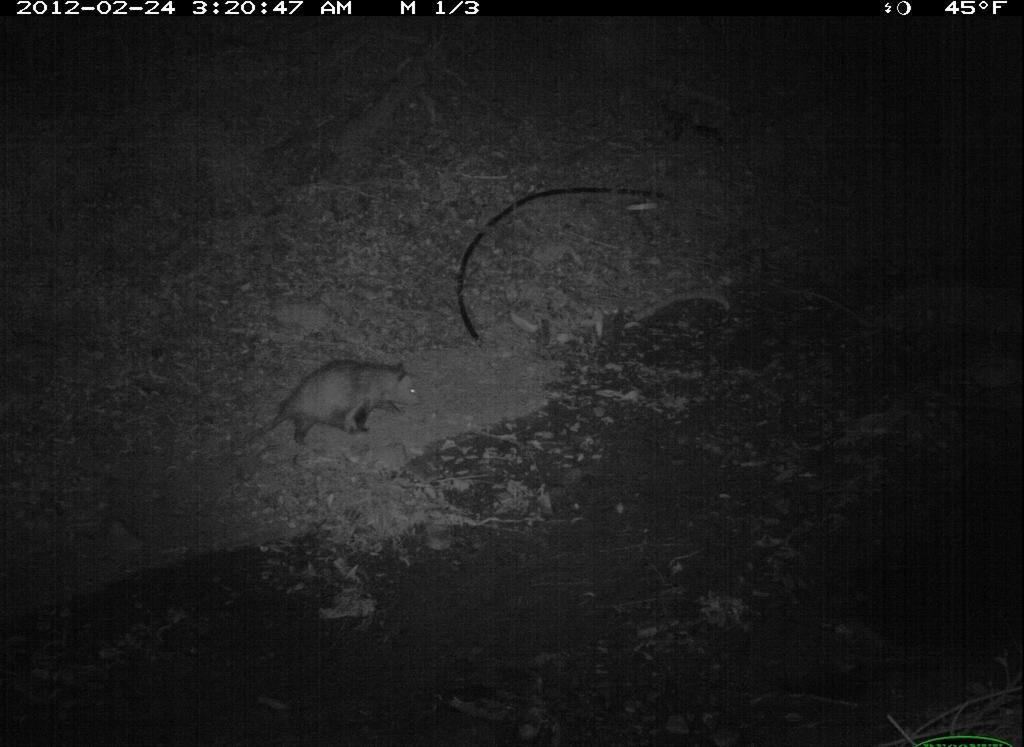opossum: (239, 358, 427, 454)
